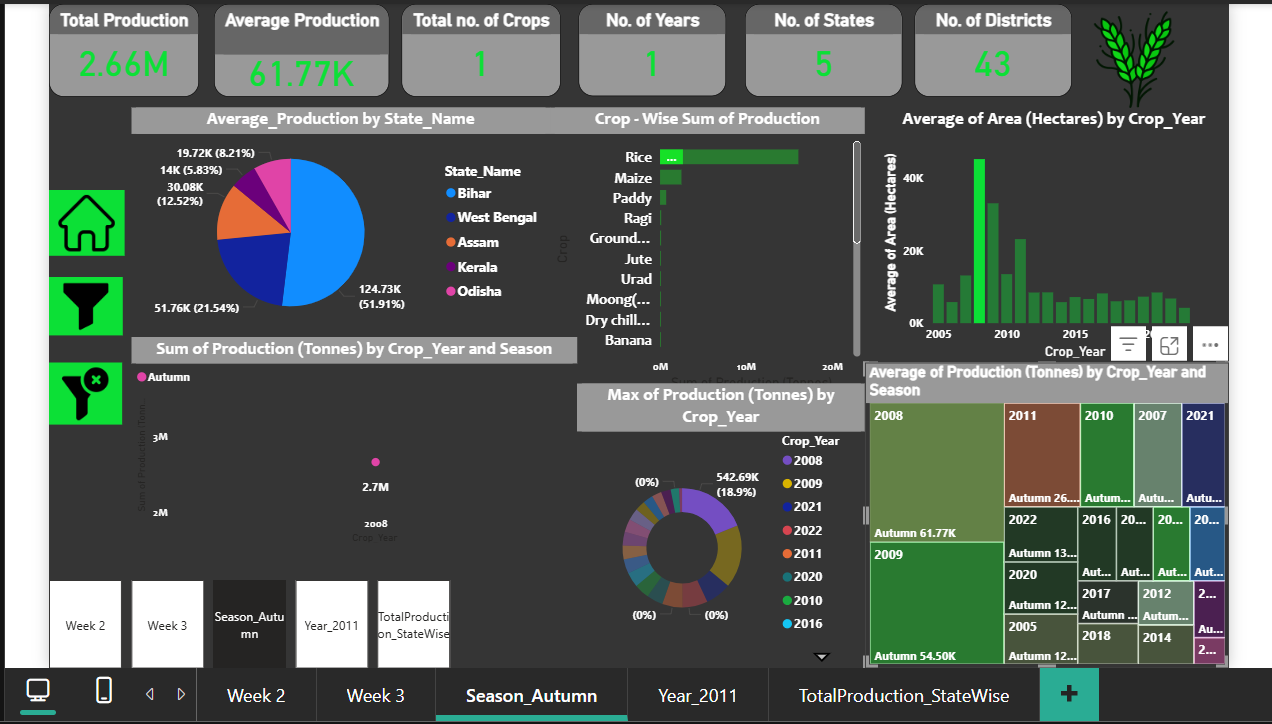

This screenshot's page, from the dashboard's own definition file:
{"tool":"powerbi","page":{"name":"Season_Autumn","canvas":[1280,720],"ordinal":2},"visuals":[{"type":"image","box":[0,201,82,71.4],"z":0},{"type":"image","box":[0,296.2,79.8,63.5],"z":1000},{"type":"image","box":[0,389.3,79.2,67.6],"z":3000},{"type":"card","title":"Total Production","fields":{"Values":["Crop_Data.Total_Production"]},"box":[0,0,162.7,100.8],"z":4000},{"type":"card","title":"Total no. of Crops","fields":{"Values":["Crop_Data.No_of_Crops"]},"box":[382.2,0,172.4,100.8],"z":5000},{"type":"card","title":"Average Production ","fields":{"Values":["Crop_Data.Average_Production"]},"box":[178.9,0,190.3,100.8],"z":6000},{"type":"card","title":"No. of States","fields":{"Values":["Crop_Data.Total_States"]},"box":[754.7,0,170.8,100.8],"z":7000},{"type":"card","title":"No. of Years ","fields":{"Values":["Crop_Data.No_of_Years"]},"box":[574,0,160,100],"z":8000},{"type":"card","title":"No. of Districts ","fields":{"Values":["Crop_Data.No_of_Districts"]},"box":[938.5,0,170.8,100.8],"z":10000},{"type":"barChart","title":"Crop - Wise Sum of Production  ","fields":{"Category":["Crop_Data.Crop"],"Y":["Sum(Crop_Data.Production (Tonnes))"]},"box":[543.3,112.2,341.6,310.7],"z":11000},{"type":"stackedAreaChart","fields":{"Category":["Crop_Data.Crop_Year"],"Y":["Sum(Crop_Data.Production (Tonnes))"],"Series":["Crop_Data.Season"]},"box":[89.5,361.1,483.1,227.7],"z":12000},{"type":"image","box":[1108,0,138,120],"z":13000},{"type":"pieChart","fields":{"Category":["Crop_Data.State_Name"],"Y":["Crop_Data.Average_Production"]},"box":[89.5,112.2,453.8,247.2],"z":14000},{"type":"lineClusteredColumnComboChart","fields":{"Category":["Crop_Data.Crop","Crop_Data.Crop_Year"],"Y":["Avg(Crop_Data.Area (Hectares))"]},"box":[899.5,112.2,380.6,276.5],"z":15000},{"type":"treemap","fields":{"Group":["Crop_Data.Crop_Year"],"Values":["Avg(Crop_Data.Production (Tonnes))"],"Details":["Crop_Data.Season"]},"box":[884.8,388.7,395.3,331.8],"z":16000},{"type":"donutChart","fields":{"Y":["Max(Crop_Data.Production (Tonnes))"],"Category":["Crop_Data.Crop_Year"]},"box":[572.5,411.5,312.3,309],"z":17000},{"type":"pageNavigator","box":[0,624,436,96],"z":17501}]}

Visuals, with their boxes on the page's 1280x720 design canvas (x1, y1, x2, y2). These are canvas units, not pixel positions in the 1272x724 screenshot, which may show the page scaled, cropped or inside an application window:
image: bbox=[0, 201, 82, 272]
image: bbox=[0, 296, 80, 360]
image: bbox=[0, 389, 79, 457]
"Total Production" card: bbox=[0, 0, 163, 101]
"Total no. of Crops" card: bbox=[382, 0, 555, 101]
"Average Production " card: bbox=[179, 0, 369, 101]
"No. of States" card: bbox=[755, 0, 926, 101]
"No. of Years " card: bbox=[574, 0, 734, 100]
"No. of Districts " card: bbox=[938, 0, 1109, 101]
"Crop - Wise Sum of Production  " barChart: bbox=[543, 112, 885, 423]
stackedAreaChart - Crop_Data.Crop_Year x Sum(Crop_Data.Production (Tonnes)): bbox=[90, 361, 573, 589]
image: bbox=[1108, 0, 1246, 120]
pieChart - Crop_Data.State_Name x Crop_Data.Average_Production: bbox=[90, 112, 543, 359]
lineClusteredColumnComboChart - Crop_Data.Crop x Crop_Data.Crop_Year: bbox=[900, 112, 1280, 389]
treemap - Crop_Data.Crop_Year x Avg(Crop_Data.Production (Tonnes)): bbox=[885, 389, 1280, 720]
donutChart - Max(Crop_Data.Production (Tonnes)) x Crop_Data.Crop_Year: bbox=[572, 412, 885, 720]
pageNavigator: bbox=[0, 624, 436, 720]
